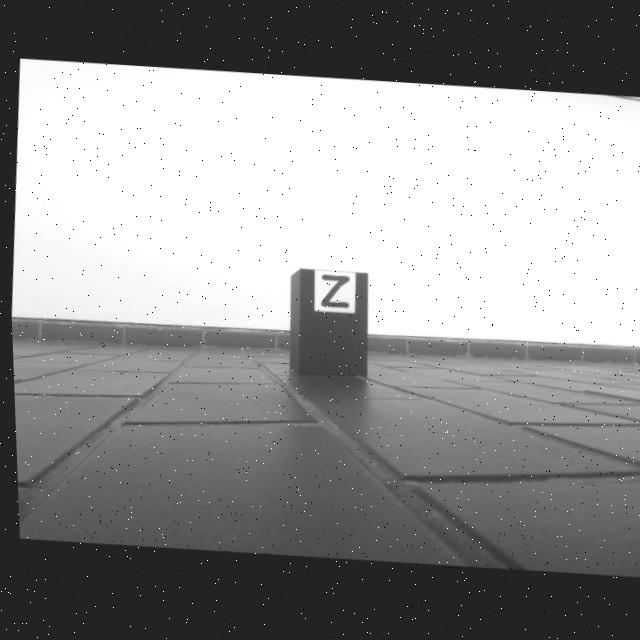Z: (319, 275, 347, 308)
